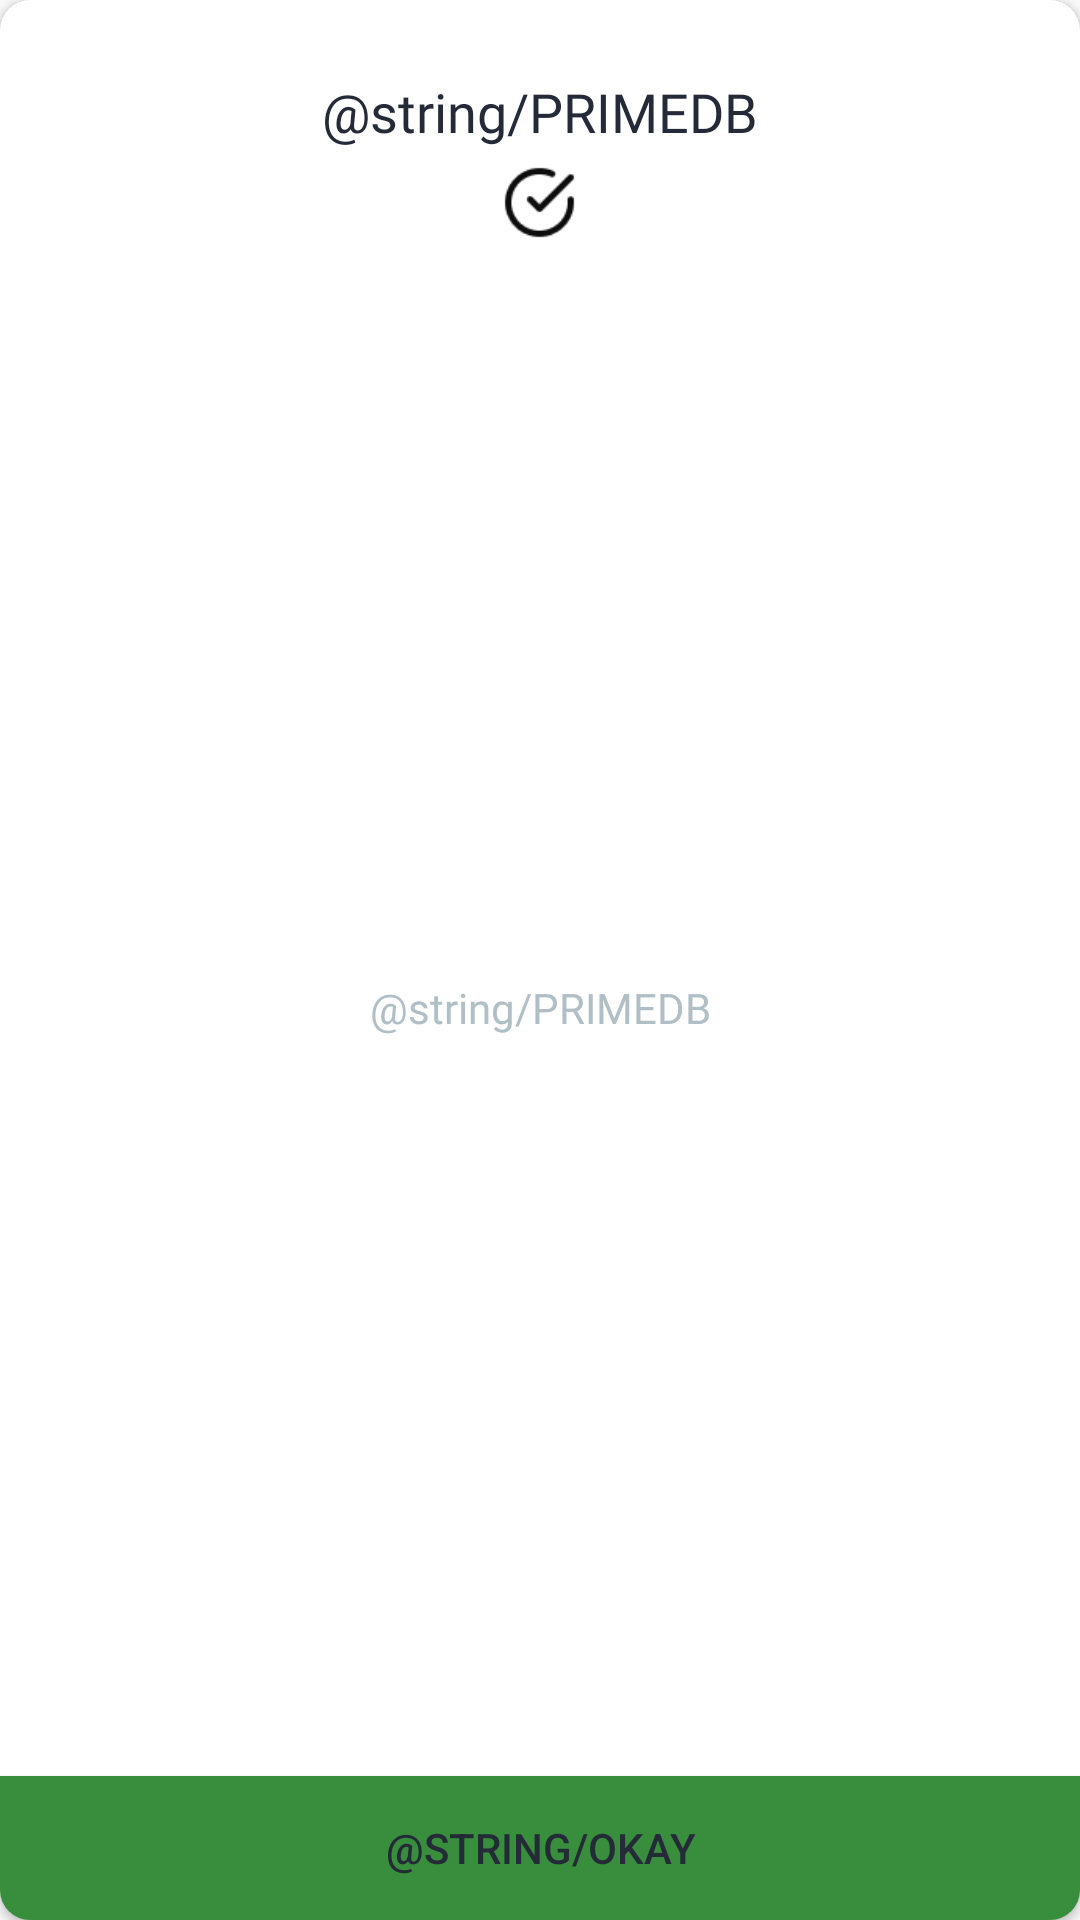

Where to tap for icons on this 1080w x 1920h app screen, as [x,y]:
checked: [539,202]
